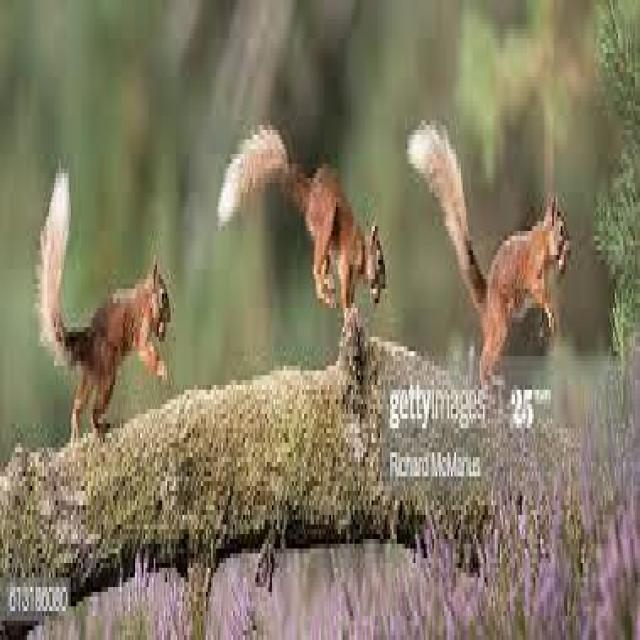license-plate: (400, 105, 584, 433), (32, 158, 182, 438), (218, 120, 388, 366)
